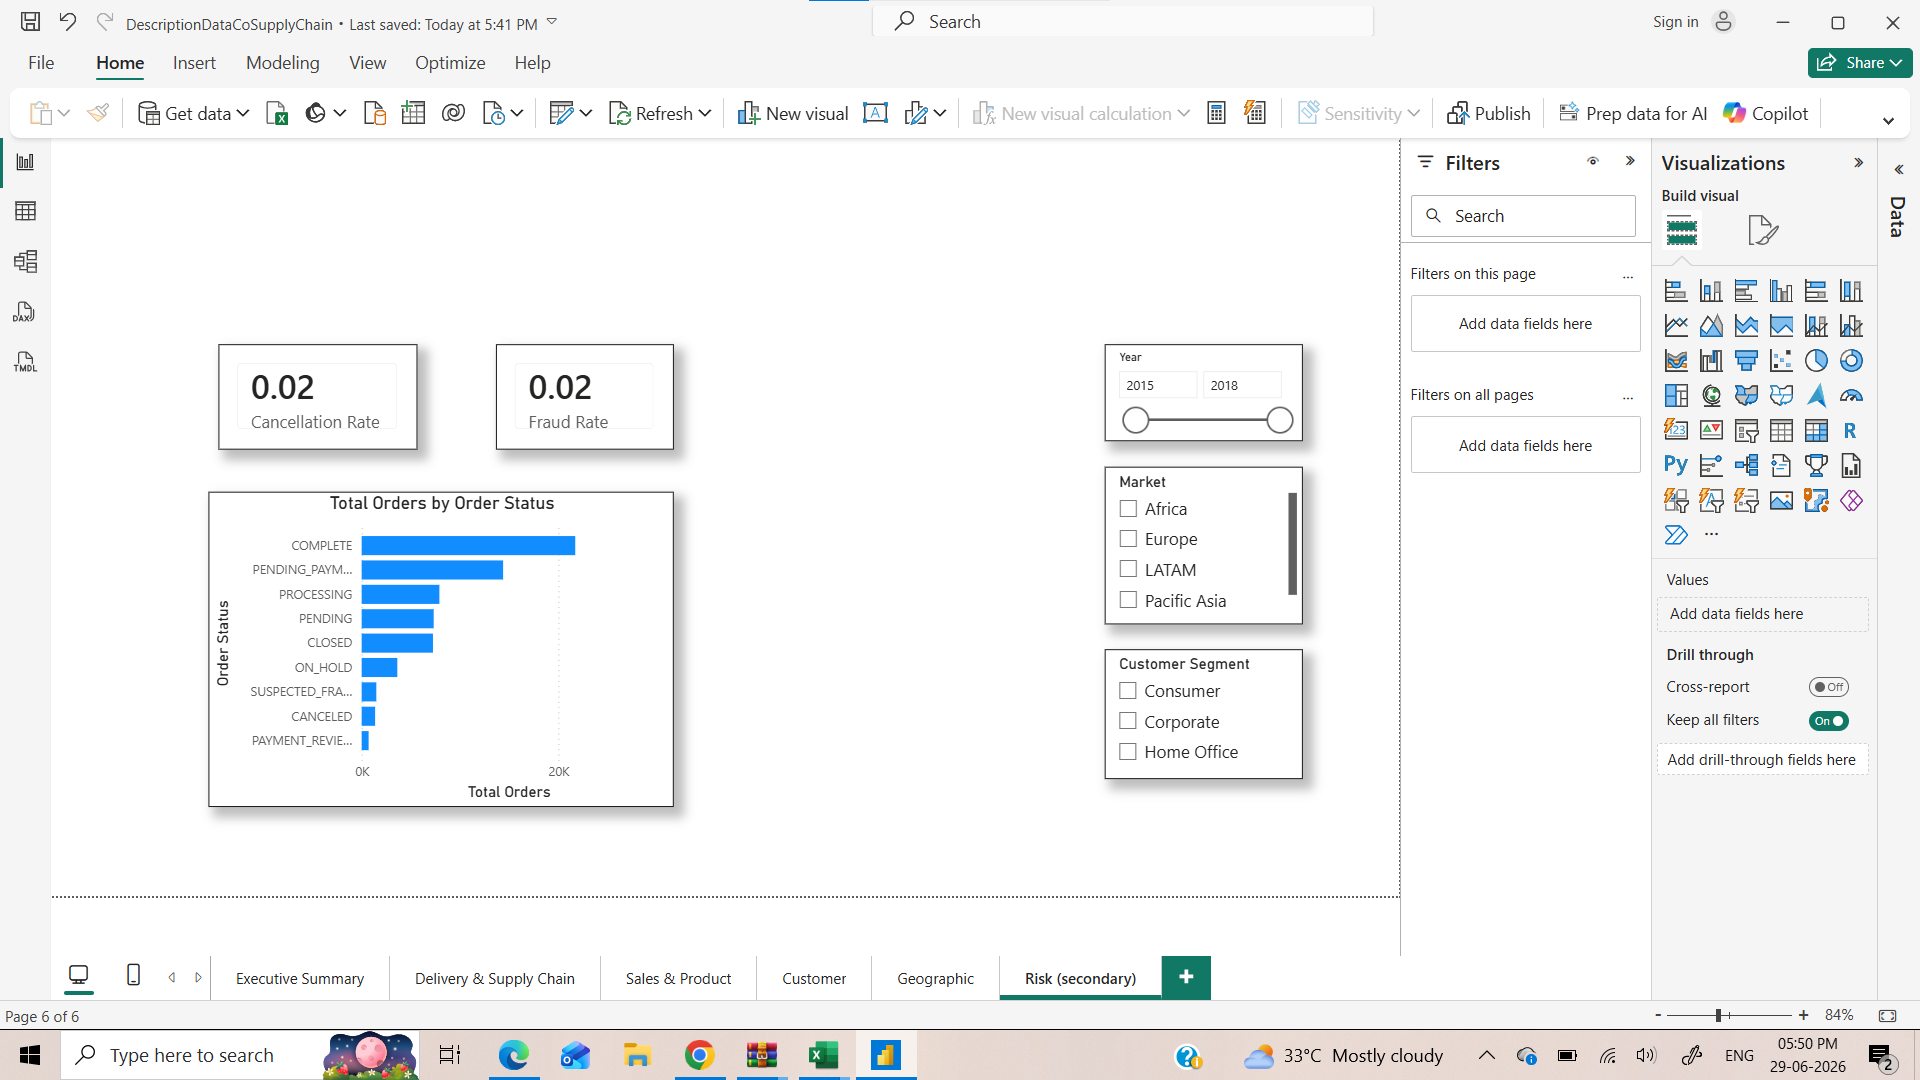

The page's visual inventory and layout, read from the dashboard file:
{"tool":"powerbi","page":{"name":"Risk (secondary)","canvas":[1280,720],"ordinal":5},"visuals":[{"type":"cardVisual","fields":{"Data":["_Measures.Cancellation Rate"]},"box":[159,195.8,188.7,99.7],"z":0},{"type":"cardVisual","fields":{"Data":["_Measures.Fraud Rate"]},"box":[422.4,195.8,168.5,99.7],"z":1},{"type":"clusteredBarChart","fields":{"Category":["FactOrders.Order Status"],"Y":["_Measures.Total Orders"]},"box":[149.6,336.2,441.9,299.1],"z":2},{"type":"slicer","fields":{"Values":["Dim_Date.Year"]},"box":[1000.3,196.2,188,91.9],"z":3},{"type":"slicer","fields":{"Values":["Dim_Geography.Market"]},"box":[1000.3,311.5,188,149.6],"z":4},{"type":"slicer","fields":{"Values":["Dim_Customer.Customer Segment"]},"box":[1000.3,485.8,188,123.5],"z":5}]}

Visuals, with their boxes on the page's 1280x720 design canvas (x1, y1, x2, y2). These are canvas units, not pixel positions in the 1920x1080 screenshot, which may show the page scaled, cropped or inside an application window:
cardVisual - _Measures.Cancellation Rate: <box>159,196,348,296</box>
cardVisual - _Measures.Fraud Rate: <box>422,196,591,296</box>
clusteredBarChart - FactOrders.Order Status x _Measures.Total Orders: <box>150,336,592,635</box>
slicer - Dim_Date.Year: <box>1000,196,1188,288</box>
slicer - Dim_Geography.Market: <box>1000,312,1188,461</box>
slicer - Dim_Customer.Customer Segment: <box>1000,486,1188,609</box>
